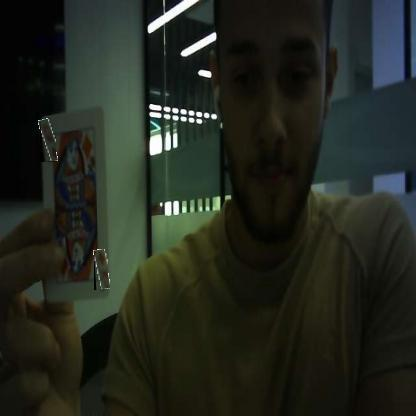QD: (40, 119, 56, 162), (94, 250, 108, 290)
